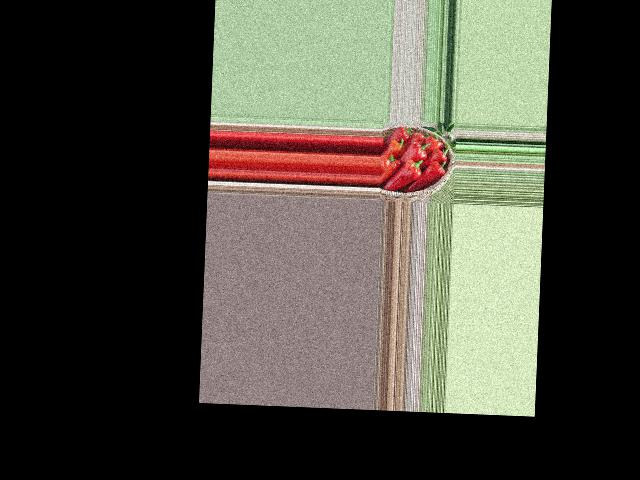bell_pepper: (429, 146, 451, 164)
